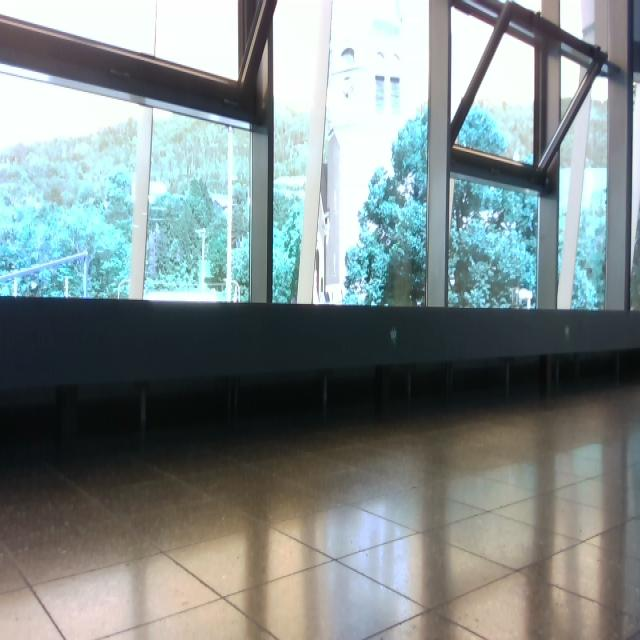light bulb: (340, 46, 356, 100), (388, 53, 402, 114), (374, 51, 387, 115), (390, 325, 398, 344)
tiled floor: (2, 380, 640, 638)
window: (1, 1, 640, 316)
